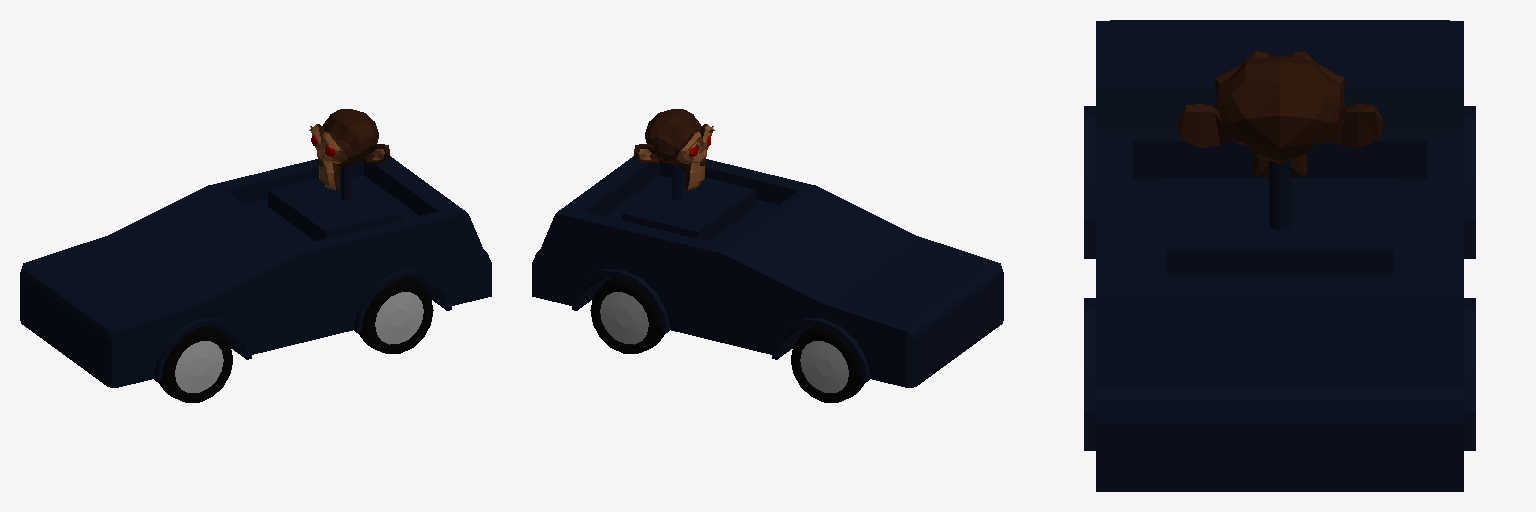
The robot description file, URDF, robot "suzanne_bot":
<?xml version="1.0" ?>
<!-- =================================================================================== -->
<!-- |    This document was autogenerated by xacro from suzanne_bot.urdf.xacro         | -->
<!-- |    EDITING THIS FILE BY HAND IS NOT RECOMMENDED                                 | -->
<!-- =================================================================================== -->
<!-- this file was autogenerated by bender blender xacro exporter -->
<robot name="suzanne_bot" xmlns:xacro="http://ros.org/wiki/xacro">
  <link name="base_footprint">
    <!-- visual -->
    <!-- collision -->
    <!-- inertial -->
    <inertial>
      <origin rpy="0 0 0" xyz="0 0 0"/>
      <mass value="1.5"/>
      <inertia ixx="1.5" ixy="0.0" ixz="0.0" iyy="1.5" iyz="0.0" izz="1.5"/>
    </inertial>
  </link>
  <link name="base_link">
    <!-- visual -->
    <visual>
      <geometry>
        <mesh filename="package://suzanne_robot_description/meshes/chassi.dae"/>
      </geometry>
    </visual>
    <!-- collision -->
    <collision>
      <geometry>
        <mesh filename="package://suzanne_robot_description/meshes/chassi.dae"/>
      </geometry>
    </collision>
    <!-- inertial -->
    <inertial>
      <origin rpy="0 0 0" xyz="0 0 0"/>
      <mass value="1000"/>
      <inertia ixx="1.5" ixy="0.0" ixz="0.0" iyy="1.5" iyz="0.0" izz="1.5"/>
    </inertial>
  </link>
  <joint name="base_footprint_base_link_joint" type="revolute">
    <parent link="base_footprint"/>
    <child link="base_link"/>
    <origin rpy="  0.0000  -0.0000   0.0000" xyz="  0.0000   0.0000   1.0607"/>
    <axis xyz="1 0 0"/>
    <!-- 
        THIS is a dirty hack must be fixed in future versions
        what we need is a new empty type which has properties for joint types limits...
        lower and upper could be set by constraints    
    -->
    <limit effort="0" lower="0" upper="0" velocity="0"/>
  </joint>
  <transmission name="base_footprint_base_link_trans">
    <type>transmission_interface/SimpleTransmission</type>
    <joint name="base_footprint_base_link_joint"/>
    <actuator name="base_footprint_base_link_motor">
      <hardwareInterface>PositionJointInterface</hardwareInterface>
      <mechanicalReduction>1</mechanicalReduction>
    </actuator>
  </transmission>
  <link name="head_link">
    <!-- visual -->
    <visual>
      <geometry>
        <mesh filename="package://suzanne_robot_description/meshes/head.dae"/>
      </geometry>
    </visual>
    <!-- collision -->
    <collision>
      <geometry>
        <mesh filename="package://suzanne_robot_description/meshes/head.dae"/>
      </geometry>
    </collision>
    <!-- inertial -->
    <inertial>
      <origin rpy="0 0 0" xyz="0 0 0"/>
      <mass value="10"/>
      <inertia ixx="1.5" ixy="0.0" ixz="0.0" iyy="1.5" iyz="0.0" izz="1.5"/>
    </inertial>
  </link>
  <joint name="base_link_head_link_joint" type="revolute">
    <parent link="base_link"/>
    <child link="head_link"/>
    <origin rpy="  0.0000  -0.0000   0.0000" xyz="  2.7640   0.0000   3.9750"/>
    <axis xyz="1 0 0"/>
    <!-- 
        THIS is a dirty hack must be fixed in future versions
        what we need is a new empty type which has properties for joint types limits...
        lower and upper could be set by constraints    
    -->
    <limit effort="0" lower="0" upper="0" velocity="0"/>
  </joint>
  <transmission name="base_link_head_link_trans">
    <type>transmission_interface/SimpleTransmission</type>
    <joint name="base_link_head_link_joint"/>
    <actuator name="base_link_head_link_motor">
      <hardwareInterface>PositionJointInterface</hardwareInterface>
      <mechanicalReduction>1</mechanicalReduction>
    </actuator>
  </transmission>
  <link name="Eye_left">
    <!-- visual -->
    <visual>
      <geometry>
        <mesh filename="package://suzanne_robot_description/meshes/eye.dae"/>
      </geometry>
    </visual>
    <!-- collision -->
    <collision>
      <geometry>
        <mesh filename="package://suzanne_robot_description/meshes/eye.dae"/>
      </geometry>
    </collision>
    <!-- inertial -->
    <inertial>
      <origin rpy="0 0 0" xyz="0 0 0"/>
      <mass value="1.5"/>
      <inertia ixx="1.5" ixy="0.0" ixz="0.0" iyy="1.5" iyz="0.0" izz="1.5"/>
    </inertial>
  </link>
  <joint name="head_link_Eye_left_joint" type="revolute">
    <parent link="head_link"/>
    <child link="Eye_left"/>
    <origin rpy="  0.0000  -0.0000   0.0000" xyz=" -0.7038  -0.3516   0.2422"/>
    <axis xyz="1 0 0"/>
    <!-- 
        THIS is a dirty hack must be fixed in future versions
        what we need is a new empty type which has properties for joint types limits...
        lower and upper could be set by constraints    
    -->
    <limit effort="0" lower="0" upper="0" velocity="0"/>
  </joint>
  <transmission name="head_link_Eye_left_trans">
    <type>transmission_interface/SimpleTransmission</type>
    <joint name="head_link_Eye_left_joint"/>
    <actuator name="head_link_Eye_left_motor">
      <hardwareInterface>PositionJointInterface</hardwareInterface>
      <mechanicalReduction>1</mechanicalReduction>
    </actuator>
  </transmission>
  <link name="Eye_right">
    <!-- visual -->
    <visual>
      <geometry>
        <mesh filename="package://suzanne_robot_description/meshes/eye.dae"/>
      </geometry>
    </visual>
    <!-- collision -->
    <collision>
      <geometry>
        <mesh filename="package://suzanne_robot_description/meshes/eye.dae"/>
      </geometry>
    </collision>
    <!-- inertial -->
    <inertial>
      <origin rpy="3.14 0 0" xyz="0 0 0"/>
      <mass value="1.5"/>
      <inertia ixx="1.5" ixy="0.0" ixz="0.0" iyy="1.5" iyz="0.0" izz="1.5"/>
    </inertial>
  </link>
  <joint name="head_link_Eye_right_joint" type="revolute">
    <parent link="head_link"/>
    <child link="Eye_right"/>
    <origin rpy="  0.0000  -0.0000   0.0000" xyz=" -0.7038   0.3516   0.2422"/>
    <axis xyz="1 0 0"/>
    <!-- 
        THIS is a dirty hack must be fixed in future versions
        what we need is a new empty type which has properties for joint types limits...
        lower and upper could be set by constraints    
    -->
    <limit effort="0" lower="0" upper="0" velocity="0"/>
  </joint>
  <transmission name="head_link_Eye_right_trans">
    <type>transmission_interface/SimpleTransmission</type>
    <joint name="head_link_Eye_right_joint"/>
    <actuator name="head_link_Eye_right_motor">
      <hardwareInterface>PositionJointInterface</hardwareInterface>
      <mechanicalReduction>1</mechanicalReduction>
    </actuator>
  </transmission>
  <link name="Left_Back_Wheel">
    <!-- visual -->
    <visual>
      <geometry>
        <mesh filename="package://suzanne_robot_description/meshes/wheel.dae"/>
      </geometry>
    </visual>
    <!-- collision -->
    <collision>
      <geometry>
        <mesh filename="package://suzanne_robot_description/meshes/wheel.dae"/>
      </geometry>
    </collision>
    <!-- inertial -->
    <inertial>
      <origin rpy="0 0 0" xyz="0 0 0"/>
      <mass value="5"/>
      <inertia ixx="1.5" ixy="0.0" ixz="0.0" iyy="1.5" iyz="0.0" izz="1.5"/>
    </inertial>
  </link>
  <joint name="base_link_Left_Back_Wheel_joint" type="continuous">
    <parent link="base_link"/>
    <child link="Left_Back_Wheel"/>
    <origin rpy="  0.0000  -0.0000   0.0000" xyz="  3.0000  -2.0000   0.0000"/>
    <axis xyz="0 1 0"/>
    <!-- 
        THIS is a dirty hack must be fixed in future versions
        what we need is a new empty type which has properties for joint types limits...
        lower and upper could be set by constraints    
    -->
    <limit effort="100" lower="-3.14" upper="3.14" velocity="100"/>
  </joint>
  <transmission name="base_link_Left_Back_Wheel_trans">
    <type>transmission_interface/SimpleTransmission</type>
    <joint name="base_link_Left_Back_Wheel_joint"/>
    <actuator name="base_link_Left_Back_Wheel_motor">
      <hardwareInterface>PositionJointInterface</hardwareInterface>
      <mechanicalReduction>1</mechanicalReduction>
    </actuator>
  </transmission>
  <link name="Left_Front_Wheel">
    <!-- visual -->
    <visual>
      <geometry>
        <mesh filename="package://suzanne_robot_description/meshes/wheel.dae"/>
      </geometry>
    </visual>
    <!-- collision -->
    <collision>
      <geometry>
        <mesh filename="package://suzanne_robot_description/meshes/wheel.dae"/>
      </geometry>
    </collision>
    <inertial>
      <origin rpy="0 0 0" xyz="0 0 0"/>
      <mass value="5"/>
      <inertia ixx="1.5" ixy="0.0" ixz="0.0" iyy="1.5" iyz="0.0" izz="1.5"/>
    </inertial>
  </link>
  <joint name="base_link_Left_Front_Wheel_joint" type="continuous">
    <parent link="base_link"/>
    <child link="Left_Front_Wheel"/>
    <origin rpy="  0.0000  -0.0000   0.0000" xyz=" -3.0000  -2.0000   0.0000"/>
    <axis xyz="0 1 0"/>
    <!-- 
        THIS is a dirty hack must be fixed in future versions
        what we need is a new empty type which has properties for joint types limits...
        lower and upper could be set by constraints    
    -->
    <limit effort="100" lower="-3.14" upper="3.14" velocity="100"/>
  </joint>
  <transmission name="base_link_Left_Front_Wheel_trans">
    <type>transmission_interface/SimpleTransmission</type>
    <joint name="base_link_Left_Front_Wheel_joint"/>
    <actuator name="base_link_Left_Front_Wheel_motor">
      <hardwareInterface>PositionJointInterface</hardwareInterface>
      <mechanicalReduction>1</mechanicalReduction>
    </actuator>
  </transmission>
  <link name="Right_Back_Wheel">
    <!-- visual -->
    <visual>
      <geometry>
        <mesh filename="package://suzanne_robot_description/meshes/wheel.dae"/>
      </geometry>
    </visual>
    <!-- collision -->
    <collision>
      <geometry>
        <mesh filename="package://suzanne_robot_description/meshes/wheel.dae"/>
      </geometry>
    </collision>
    <!-- inertial -->
    <inertial>
      <origin rpy="0 0 0" xyz="0 0 0"/>
      <mass value="5"/>
      <inertia ixx="1.5" ixy="0.0" ixz="0.0" iyy="1.5" iyz="0.0" izz="1.5"/>
    </inertial>
  </link>
  <joint name="base_link_Right_Back_Wheel_joint" type="continuous">
    <parent link="base_link"/>
    <child link="Right_Back_Wheel"/>
    <origin rpy="  0.0000  -0.0000   0.0000" xyz="  3.0000   2.0000   0.0000"/>
    <axis xyz="0 1 0"/>
    <!-- 
        THIS is a dirty hack must be fixed in future versions
        what we need is a new empty type which has properties for joint types limits...
        lower and upper could be set by constraints    
    -->
    <limit effort="100" lower="-3.14" upper="3.14" velocity="100"/>
  </joint>
  <transmission name="base_link_Right_Back_Wheel_trans">
    <type>transmission_interface/SimpleTransmission</type>
    <joint name="base_link_Right_Back_Wheel_joint"/>
    <actuator name="base_link_Right_Back_Wheel_motor">
      <hardwareInterface>PositionJointInterface</hardwareInterface>
      <mechanicalReduction>1</mechanicalReduction>
    </actuator>
  </transmission>
  <link name="Right_Front_Wheel">
    <!-- visual -->
    <visual>
      <geometry>
        <mesh filename="package://suzanne_robot_description/meshes/wheel.dae"/>
      </geometry>
    </visual>
    <!-- collision -->
    <collision>
      <geometry>
        <mesh filename="package://suzanne_robot_description/meshes/wheel.dae"/>
      </geometry>
    </collision>
    <!-- inertial -->
    <inertial>
      <origin rpy="0 0 0" xyz="0 0 0"/>
      <mass value="5"/>
      <inertia ixx="1.5" ixy="0.0" ixz="0.0" iyy="1.5" iyz="0.0" izz="1.5"/>
    </inertial>
  </link>
  <joint name="base_link_Right_Front_Wheel_joint" type="continuous">
    <parent link="base_link"/>
    <child link="Right_Front_Wheel"/>
    <origin rpy="  0.0000  -0.0000   0.0000" xyz=" -3.0000   2.0000   0.0000"/>
    <axis xyz="0 1 0"/>
    <!-- 
        THIS is a dirty hack must be fixed in future versions
        what we need is a new empty type which has properties for joint types limits...
        lower and upper could be set by constraints    
    -->
    <limit effort="100" lower="-3.14" upper="3.14" velocity="100"/>
  </joint>
  <transmission name="base_link_Right_Front_Wheel_trans">
    <type>transmission_interface/SimpleTransmission</type>
    <joint name="base_link_Right_Front_Wheel_joint"/>
    <actuator name="base_link_Right_Front_Wheel_motor">
      <hardwareInterface>PositionJointInterface</hardwareInterface>
      <mechanicalReduction>1</mechanicalReduction>
    </actuator>
  </transmission>
</robot>

--- What the picture shows (computed from the rendered views, not written in the file) ---
3 views of the same robot in one strip: view 1: azimuth 30°, elevation 25°; view 2: azimuth 150°, elevation 25°; view 3: azimuth 270°, elevation 25° (orthographic).
Model suzanne_bot with 9 links and 8 joints (4 revolute, 4 continuous), rooted at base_footprint, posed all joints at 0.
Visible links, largest first — view 1: base_link, Left_Front_Wheel, Left_Back_Wheel, head_link; view 2: base_link, Right_Front_Wheel, Right_Back_Wheel, head_link; view 3: base_link, head_link.
Link boxes in pixels (x1,y1,x2,y2): base_link: (20, 156, 491, 387); Left_Front_Wheel: (158, 326, 232, 402); Left_Back_Wheel: (358, 277, 433, 353); head_link: (309, 109, 389, 190); base_link: (532, 156, 1003, 387); Right_Front_Wheel: (791, 326, 865, 402); Right_Back_Wheel: (590, 277, 665, 353); head_link: (634, 109, 714, 190); base_link: (1084, 20, 1475, 491); head_link: (1176, 51, 1383, 177).
Size in the robot's own frame: 11.4 by 5.17 by 6.01 metres.
8 mesh visuals loaded from 4 distinct referenced files (4 Collada DAE).
